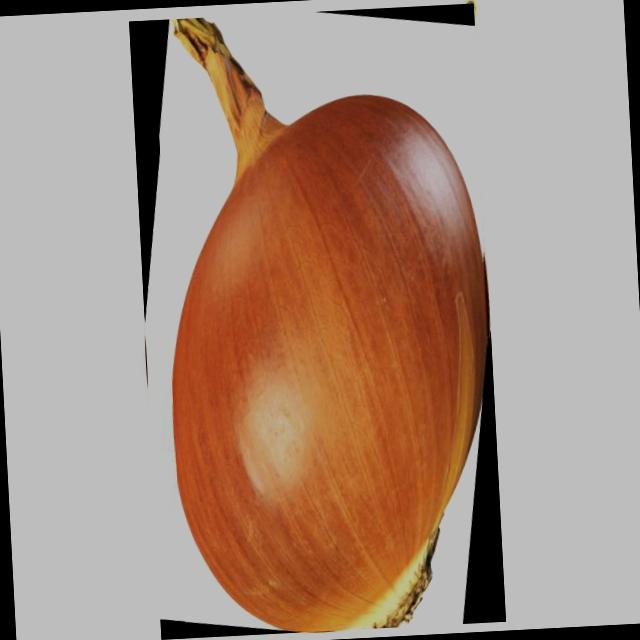healthy: (173, 17, 488, 631)
